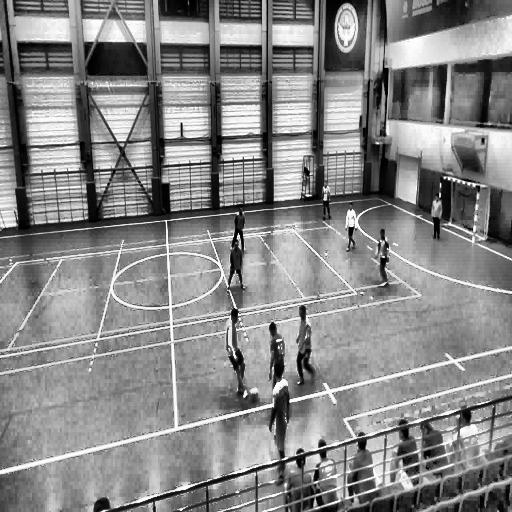ball: (249, 386, 258, 400)
player: (268, 355, 290, 481), (226, 307, 248, 397), (295, 303, 315, 384), (266, 321, 286, 389), (227, 238, 244, 290), (376, 230, 388, 288), (345, 202, 357, 252), (431, 192, 442, 240), (233, 206, 245, 248), (322, 181, 331, 221)
